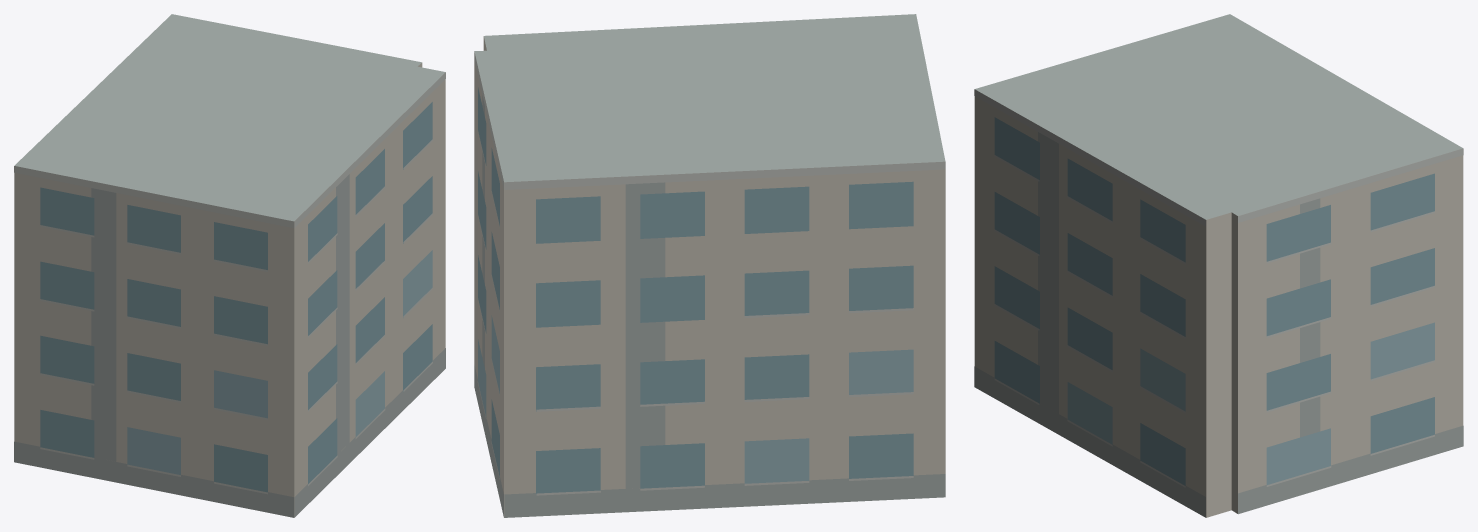
The model's file is residential-010fe471-06bb-4876-934e-0b7c942f059f.glb.
3 renders of one model, left to right at view 1: azimuth 30°, elevation 25°; view 2: azimuth 150°, elevation 25°; view 3: azimuth 270°, elevation 25°, orthographic. The views are drawn at different scales.
Parts seen in each view (by area): view 1: residential-010fe471-06bb-4876-934e-0b7c942f059f.tmp; view 2: residential-010fe471-06bb-4876-934e-0b7c942f059f.tmp; view 3: residential-010fe471-06bb-4876-934e-0b7c942f059f.tmp.
Part boxes in pixels (x1=…): residential-010fe471-06bb-4876-934e-0b7c942f059f.tmp: x1=14, y1=14, x2=445, y2=517; residential-010fe471-06bb-4876-934e-0b7c942f059f.tmp: x1=474, y1=14, x2=945, y2=517; residential-010fe471-06bb-4876-934e-0b7c942f059f.tmp: x1=974, y1=14, x2=1463, y2=517.
Size of the model in its own units: 15.72 by 10.6 by 15.77.
